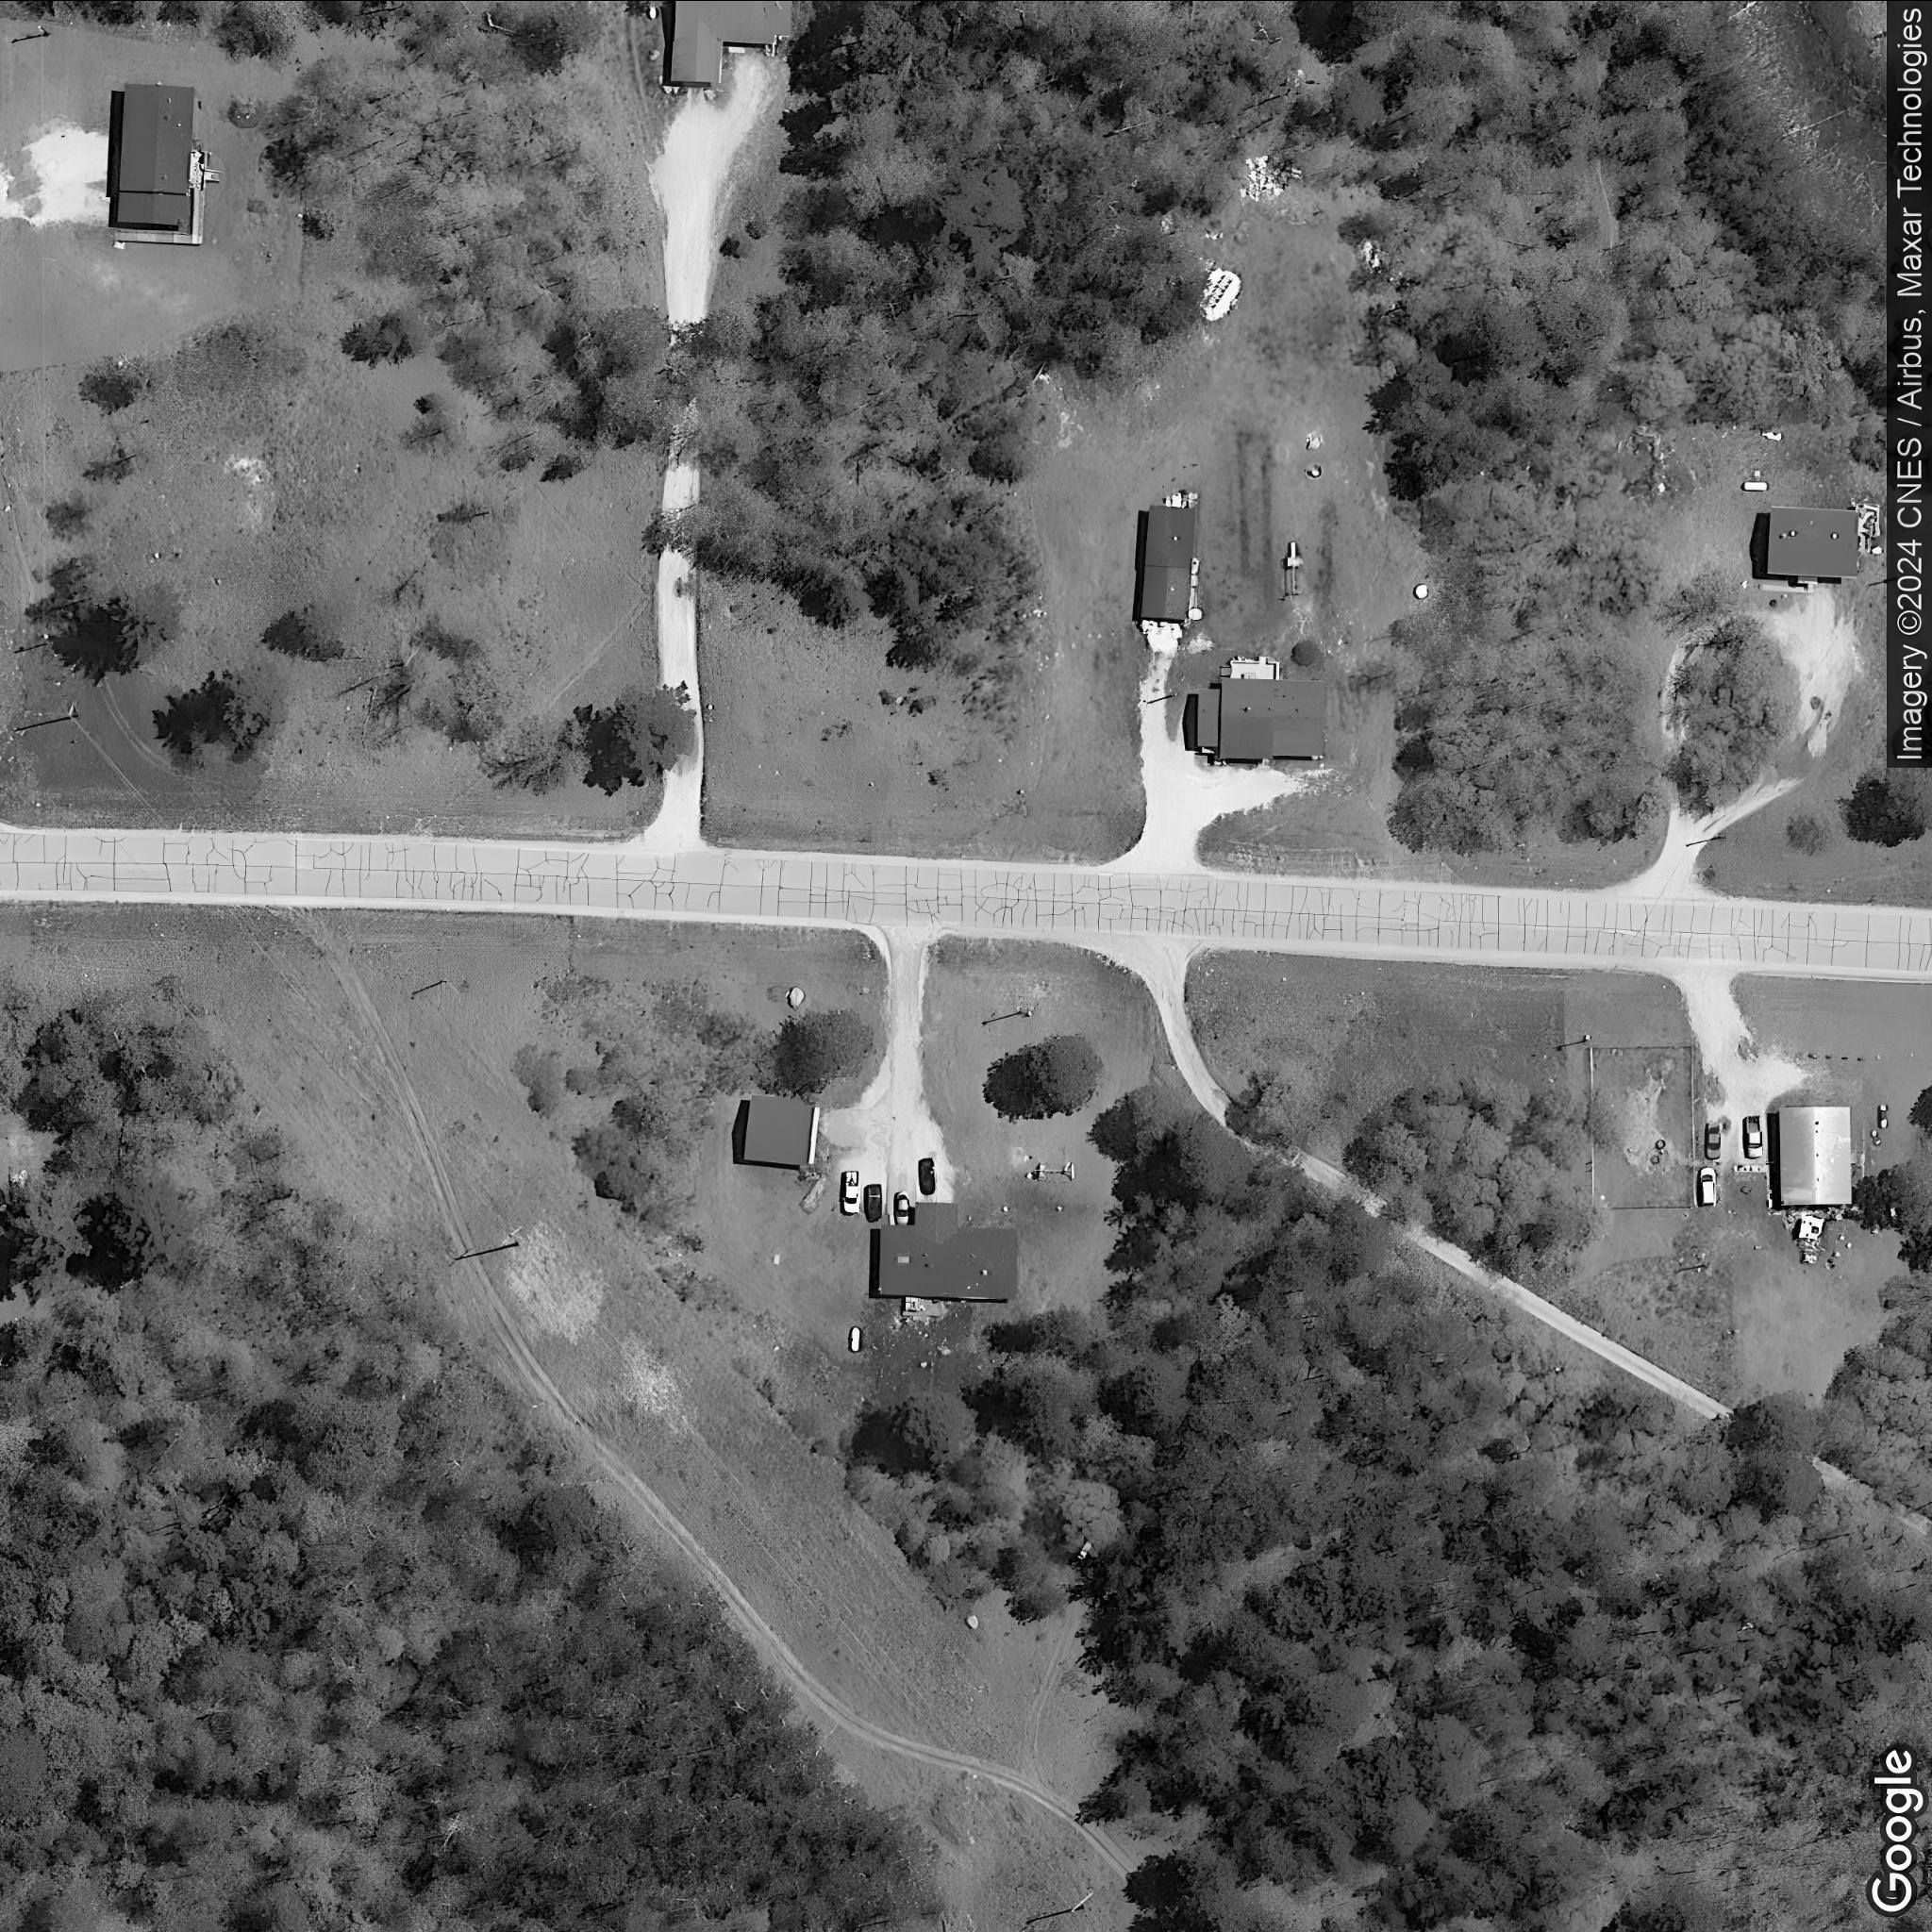Garage: (1141, 504, 1196, 619), (741, 1092, 816, 1168)
House: (876, 1201, 1019, 1302), (113, 80, 196, 228), (1196, 676, 1327, 757), (671, 2, 793, 83), (1775, 1100, 1854, 1210), (1766, 502, 1861, 579)
Propane: (1875, 1099, 1891, 1132), (847, 1322, 863, 1355), (1736, 479, 1771, 492), (646, 2, 662, 21)
